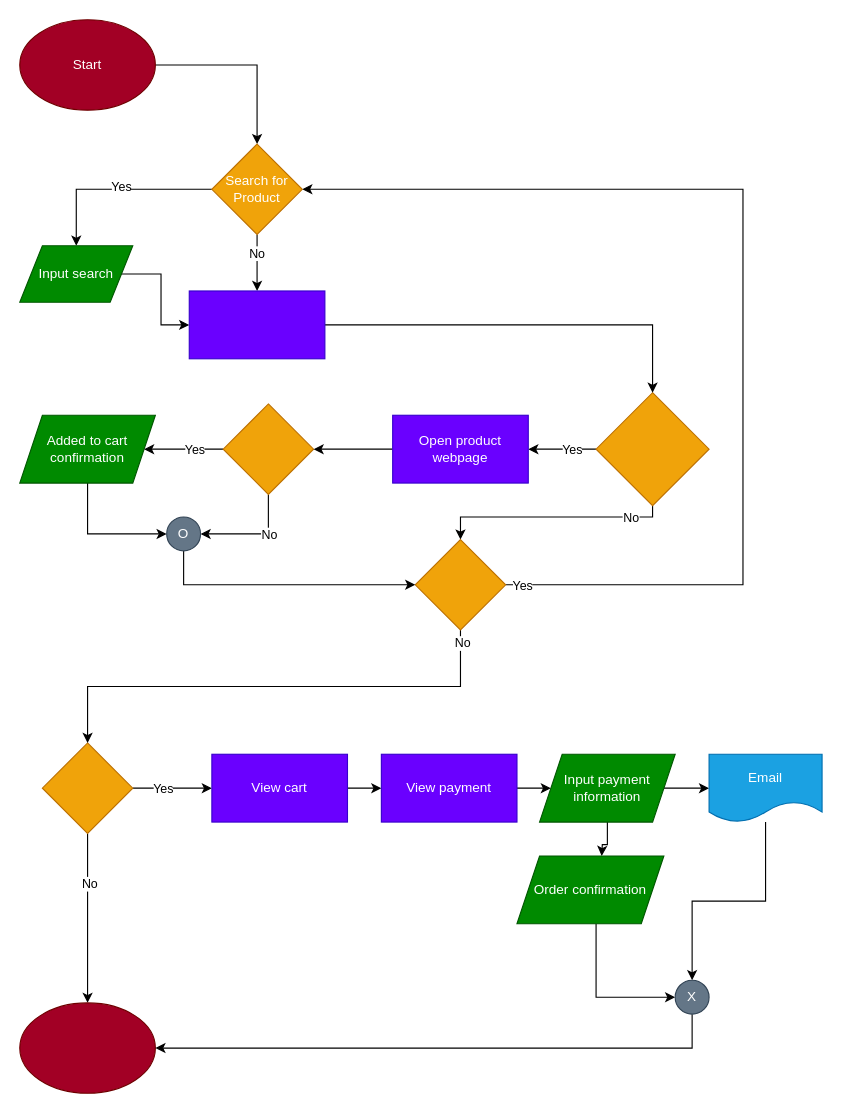
Some shapes in this 842 by 1113 pixel diagram are drawn without their labels. Each missing label, with the centre of its shape:
Add item to cart?: (268,448)
checkout?: (87,787)
Continue Shopping?: (460,584)
Leave website: (87,1047)
Look over products: (256,324)
View specific Product: (652,449)
